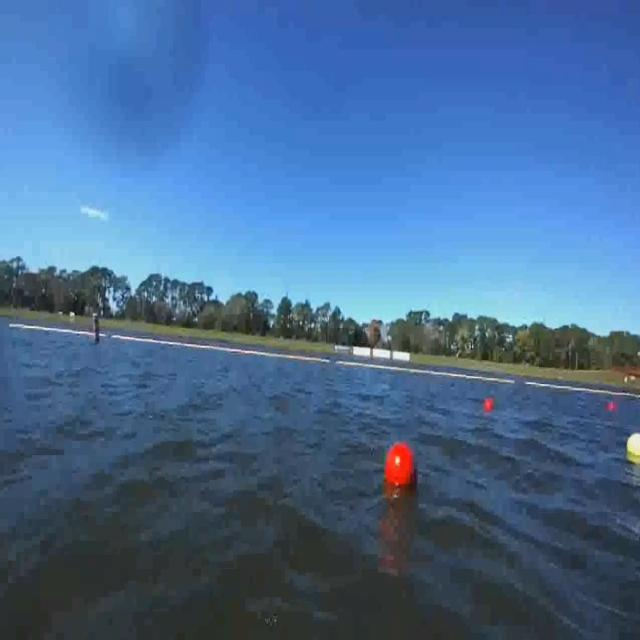red-buoy: (385, 442, 416, 488), (485, 400, 496, 415)
yellow-buoy: (626, 435, 640, 466)
